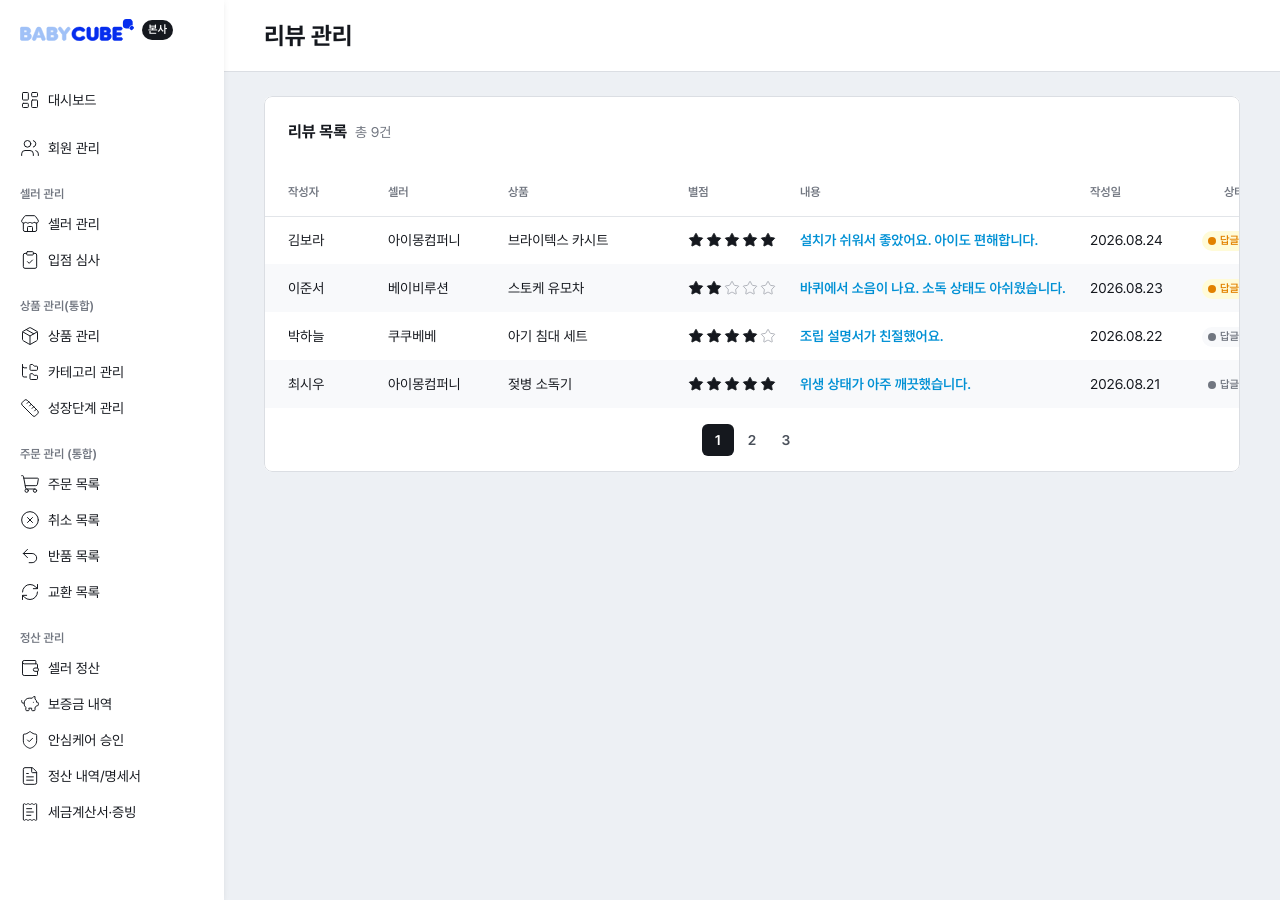
ReviewListPage › 정렬·페이지네이션 › 9건을 4건씩 나눠 3페이지로 보여준다
The width and height of the screenshot is (1280, 900).
Step 1. Click the button "3" → x=786, y=440, box [770,424,802,456]
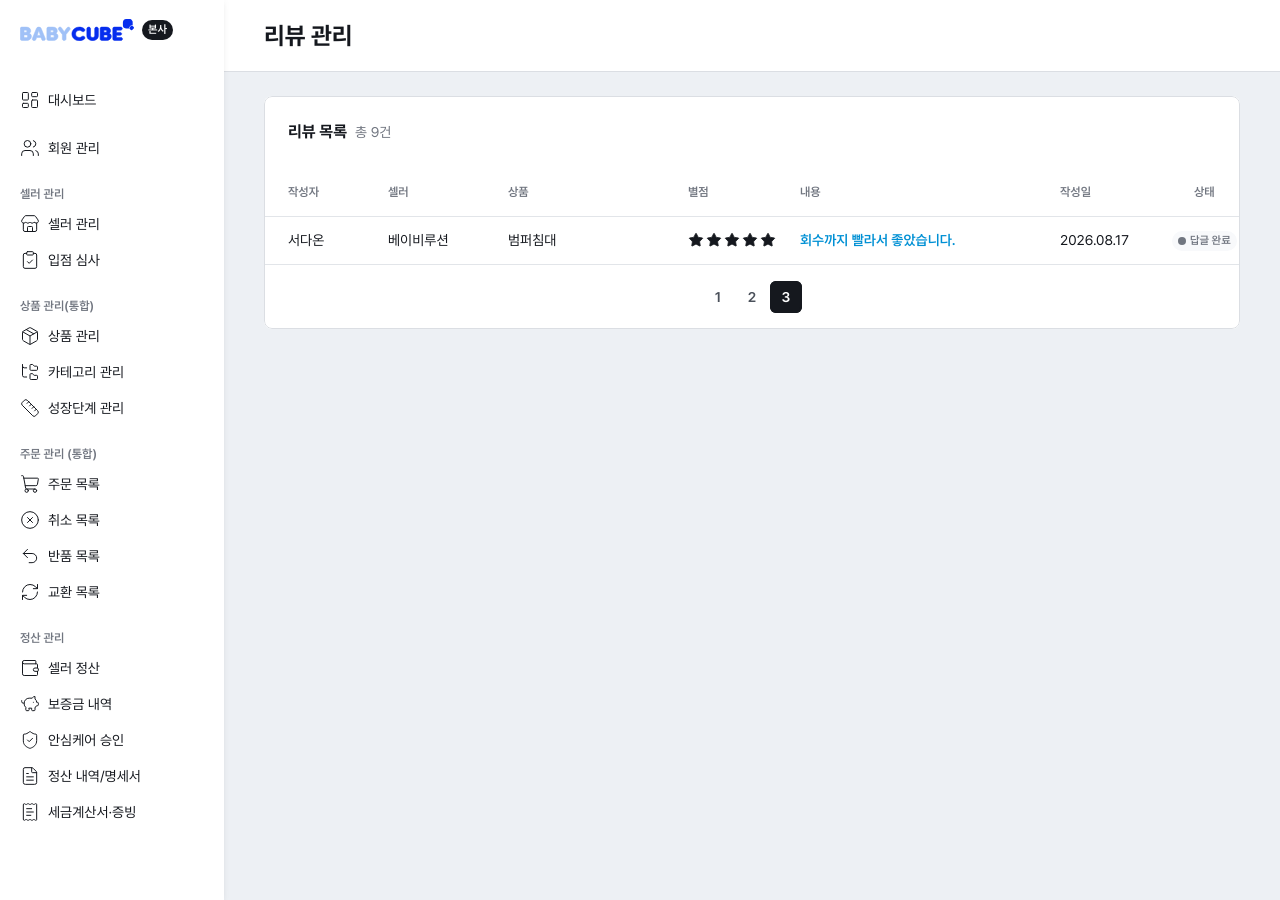
Expected: the cell "서다온" is shown, [264,216,376,264]
